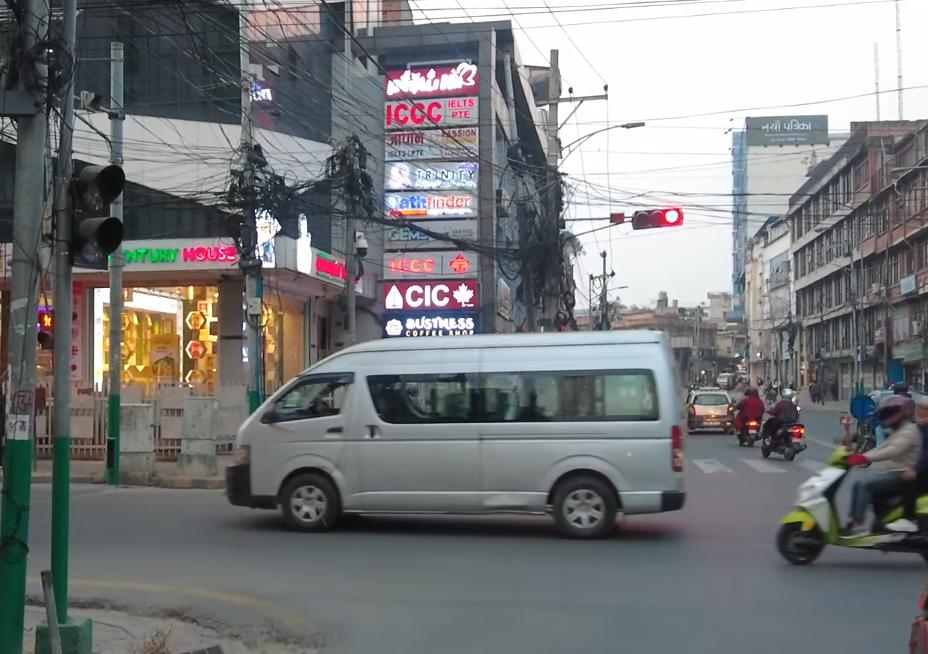micro_bus: (211, 319, 691, 546)
scooter: (772, 439, 928, 568), (760, 414, 809, 460)
